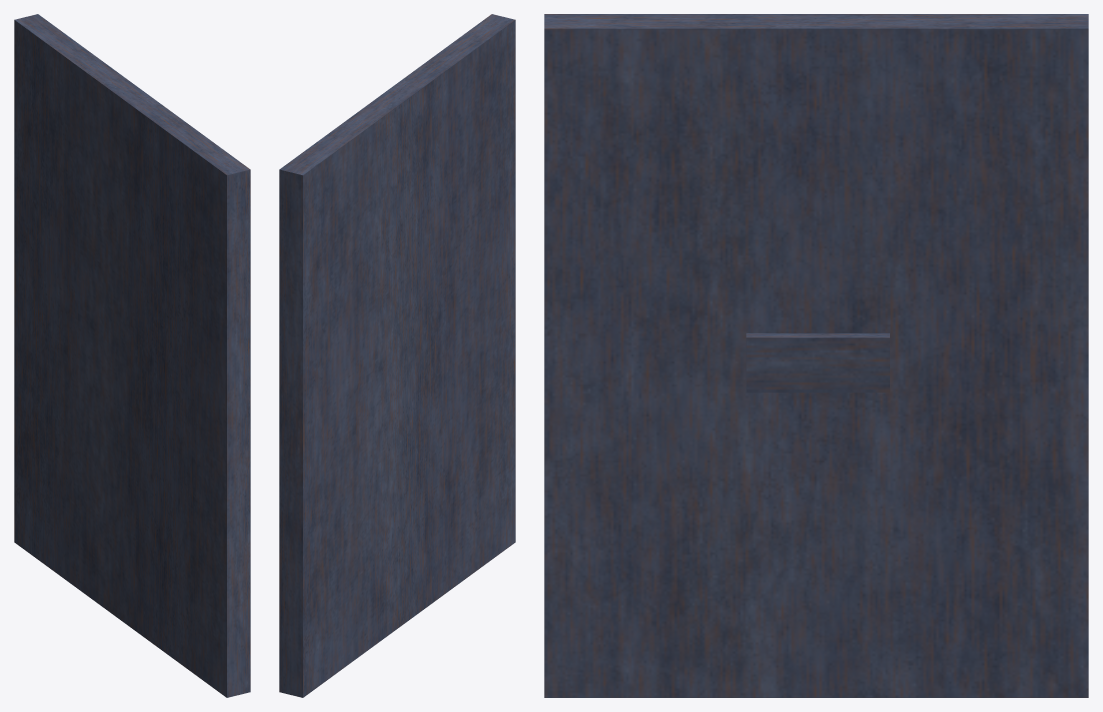
Rendered from PressurePlateDoor.glb.
3 views of the same model, side by side, from view 1: azimuth 30°, elevation 25°; view 2: azimuth 150°, elevation 25°; view 3: azimuth 270°, elevation 25° (orthographic). The views are drawn at different scales.
Visible parts, largest first — view 1: Plane; view 2: Plane; view 3: Plane.
Boxes of the visible parts, <box> form: Plane: <box>14,14,250,697</box>; Plane: <box>279,14,515,697</box>; Plane: <box>544,14,1088,697</box>.
Bounding box in the file's own units: 0.2927 × 4.78 × 3.52.
1 material, 1 textured.
